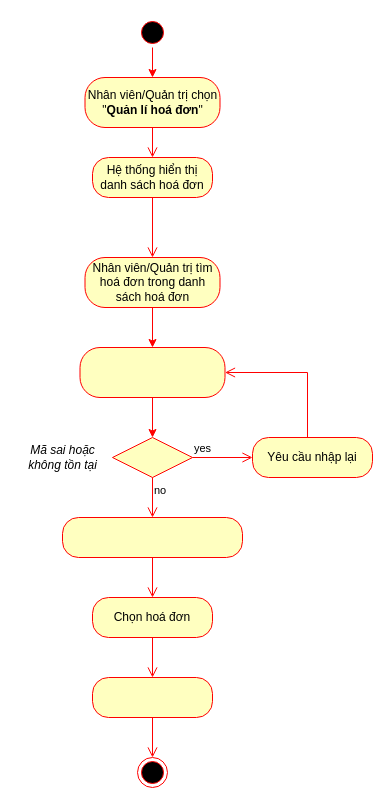
The diagram is 390 pixels wide and 805 high, and some of its shapes have lost their labels. The centre of each missing label's shape, as x and y in pixels:
"Hệ thống hiển thị chi tiết hoá đơn" belongs at point (152, 697).
"Hệ thống hiển thị hoá đơn theo đúng mã mà actors đã nhập" belongs at point (152, 537).
"Nhập mã Nhân viên/khách hàng/Hoá đơn" belongs at point (152, 372).
